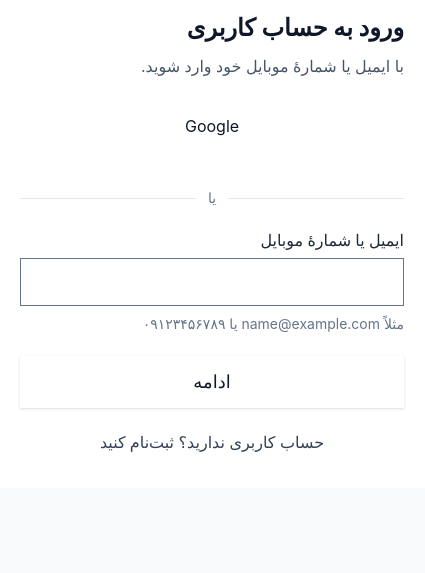
Test: Google sign-in › an account the shop does not have: a plain «ثبت‌نام» link while registration is open
This screenshot has width=425, height=573.
Later steps or results of the test are not shown.
In the field labelled "ایمیل یا شمارهٔ موبایل": (212, 282) [21,259,403,305], type "other@example.com"
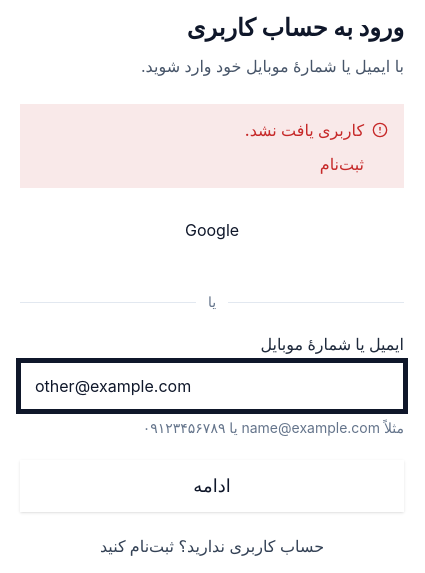
expect the message shows "کاربری یافت نشد.": met, box [245,120,364,140]
